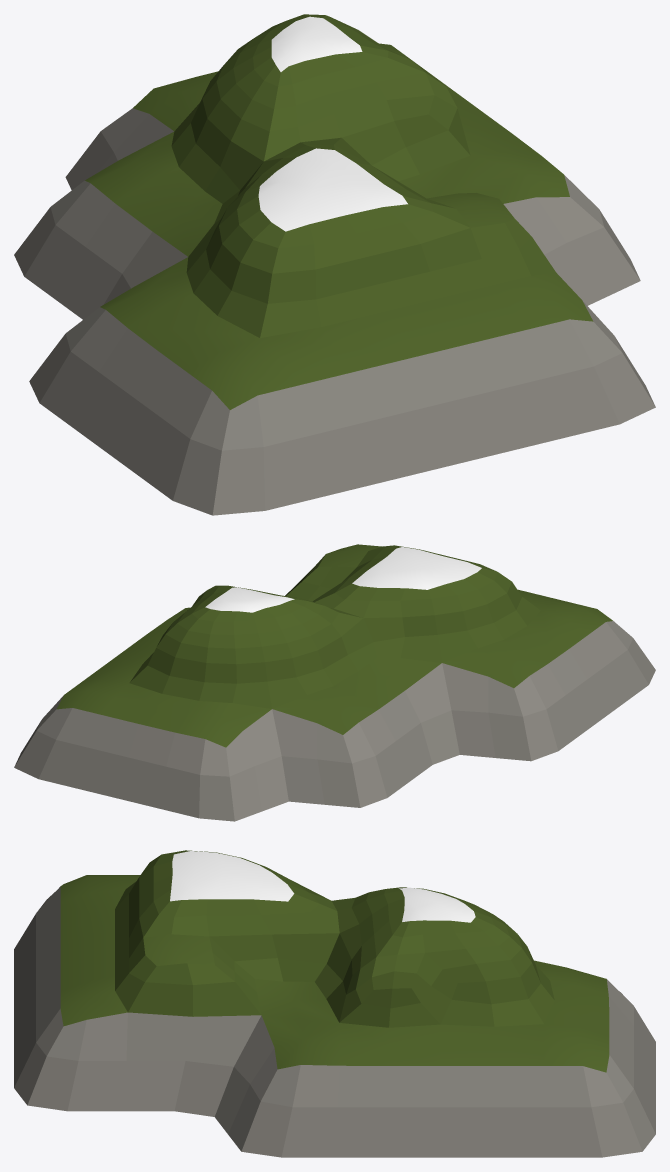
File: Island9.FBX
3 views of the same model, one above another, from view 1: azimuth 30°, elevation 25°; view 2: azimuth 150°, elevation 25°; view 3: azimuth 270°, elevation 25° (orthographic). The views are drawn at different scales.
Parts seen in each view (by area): view 1: Plane001; view 2: Plane001; view 3: Plane001.
Part boxes in pixels (<box>): Plane001: <box>14,14,655,515</box>; Plane001: <box>14,544,655,821</box>; Plane001: <box>14,850,655,1157</box>.
Size of the model in its own units: 41.17 by 13.66 by 48.28.
